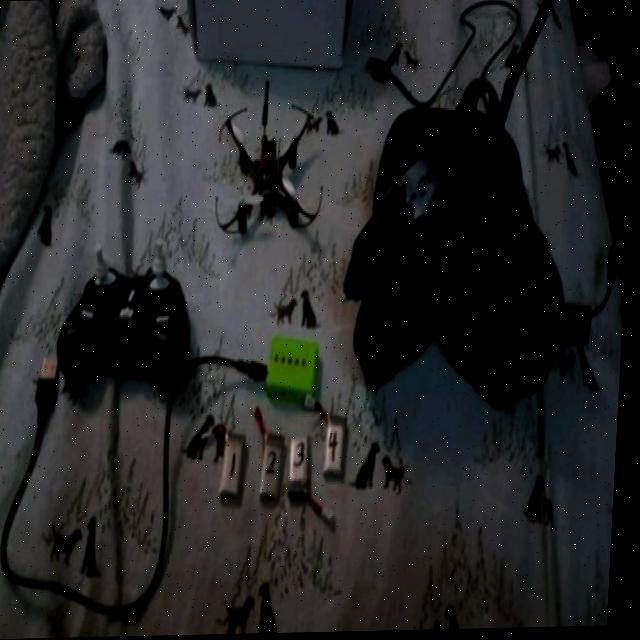drone: (203, 87, 335, 252)
